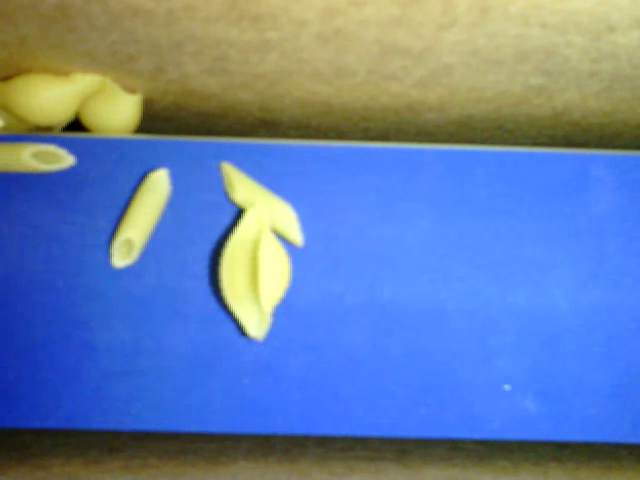penne: (218, 162, 305, 246), (109, 169, 171, 267), (1, 137, 77, 176)
shell: (212, 199, 292, 343), (1, 72, 101, 121), (76, 76, 149, 136), (1, 114, 74, 136)
